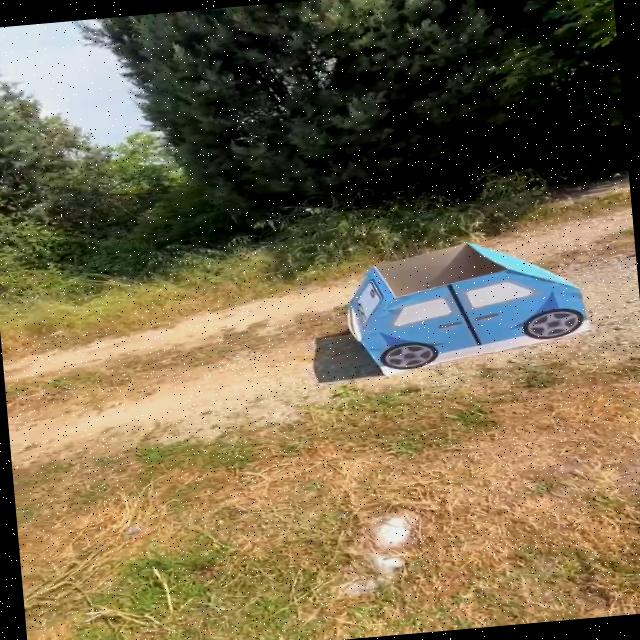blue_car: (329, 222, 603, 394)
